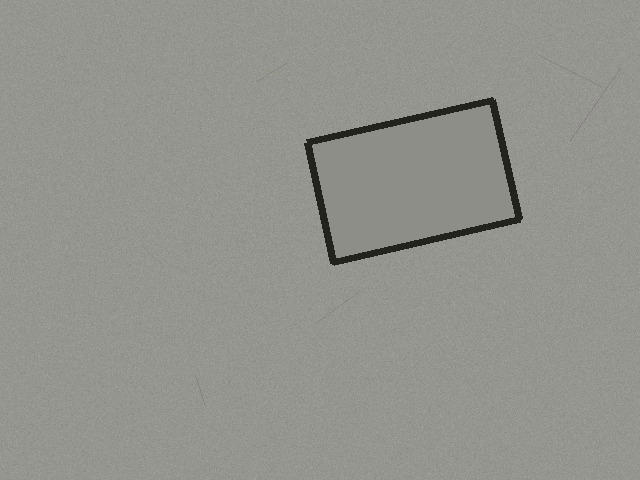parking_area: (307, 100, 519, 262)
